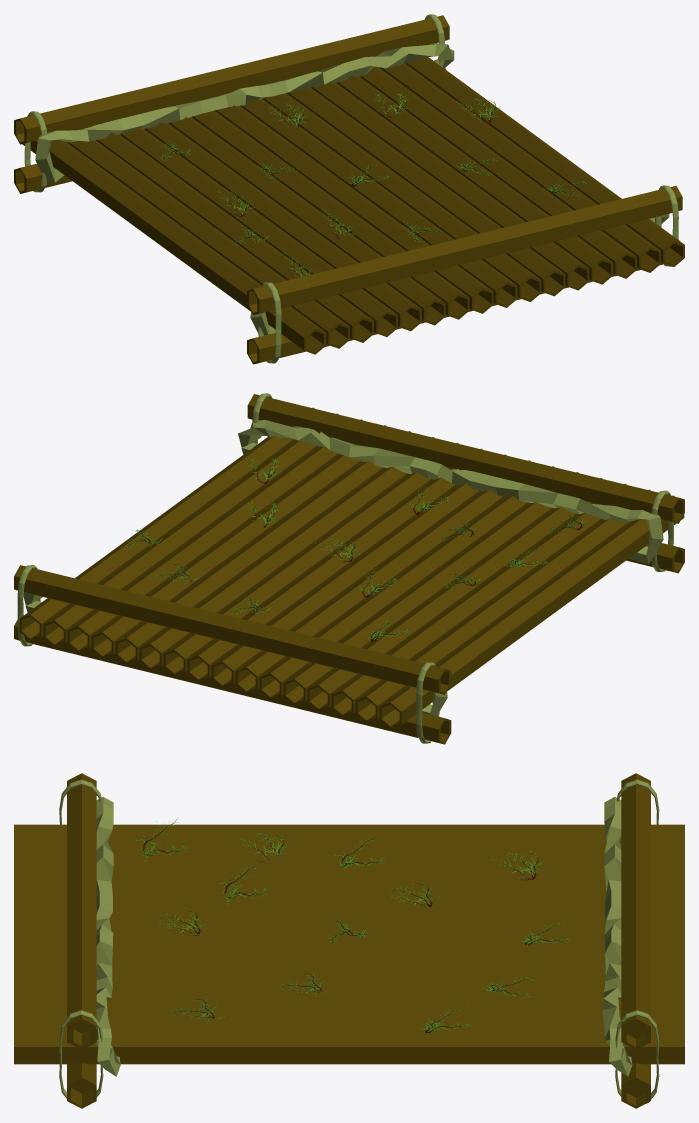
The model's file is vine bridge.fbx.
The picture shows the model from 3 angles, top to bottom: view 1: azimuth 30°, elevation 25°; view 2: azimuth 150°, elevation 25°; view 3: azimuth 270°, elevation 25°; orthographic projection. The views are drawn at different scales.
Parts seen in each view (by area): view 1: Cylinder, Cube.001, Torus.003; view 2: Cylinder, Cube, Torus.001, Cube.001, Torus.002; view 3: Cylinder, Cube.001, Cube, Torus.002, Torus.004.
Boxes of the visible parts, <box> form: Cylinder: <box>14,15,684,364</box>; Cube.001: <box>35,43,454,182</box>; Torus.003: <box>258,282,281,363</box>; Cylinder: <box>14,394,684,744</box>; Cube: <box>238,420,663,564</box>; Torus.001: <box>416,662,439,743</box>; Cube.001: <box>23,592,447,715</box>; Torus.002: <box>17,565,40,646</box>; Cylinder: <box>14,773,684,1108</box>; Cube.001: <box>602,797,632,1076</box>; Cube: <box>96,797,120,1076</box>; Torus.002: <box>615,1010,659,1103</box>; Torus.004: <box>59,1010,103,1103</box>.
Size of the model in its own units: 224 by 40.08 by 255.
